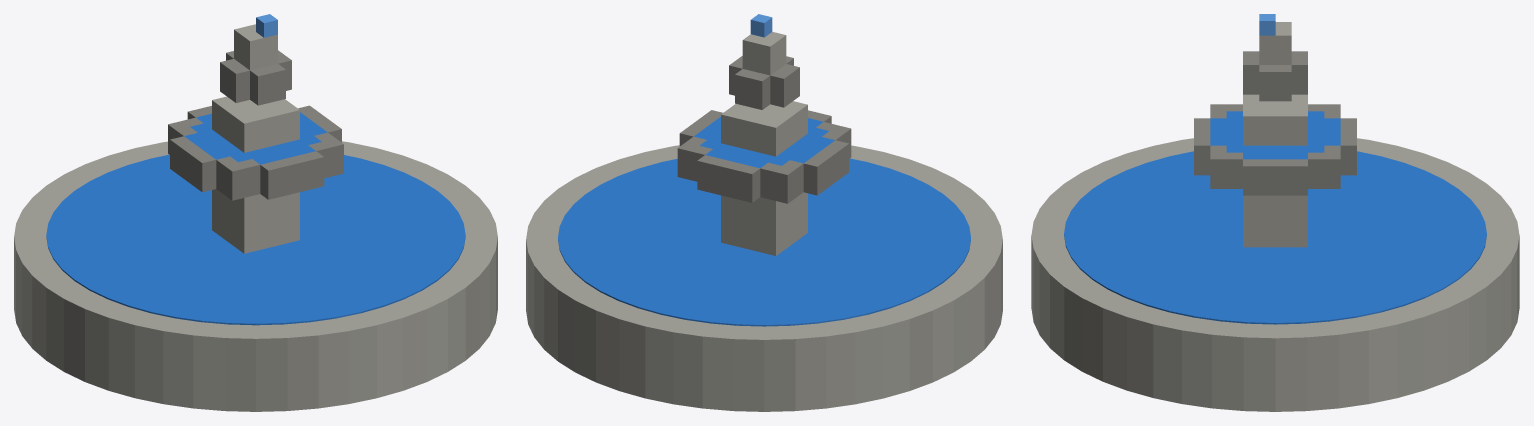
File: fountain.glb
The picture shows the model from 3 angles, left to right: view 1: azimuth 30°, elevation 25°; view 2: azimuth 150°, elevation 25°; view 3: azimuth 270°, elevation 25°; orthographic projection. The views are drawn at different scales.
Parts seen in each view (by area): view 1: basin; view 2: basin; view 3: basin.
Boxes of the visible parts, x1,y1,x2,y2 form: basin: [14, 14, 497, 411]; basin: [526, 14, 1002, 411]; basin: [1031, 14, 1519, 411].
Size of the model in its own units: 3 by 2 by 3.
